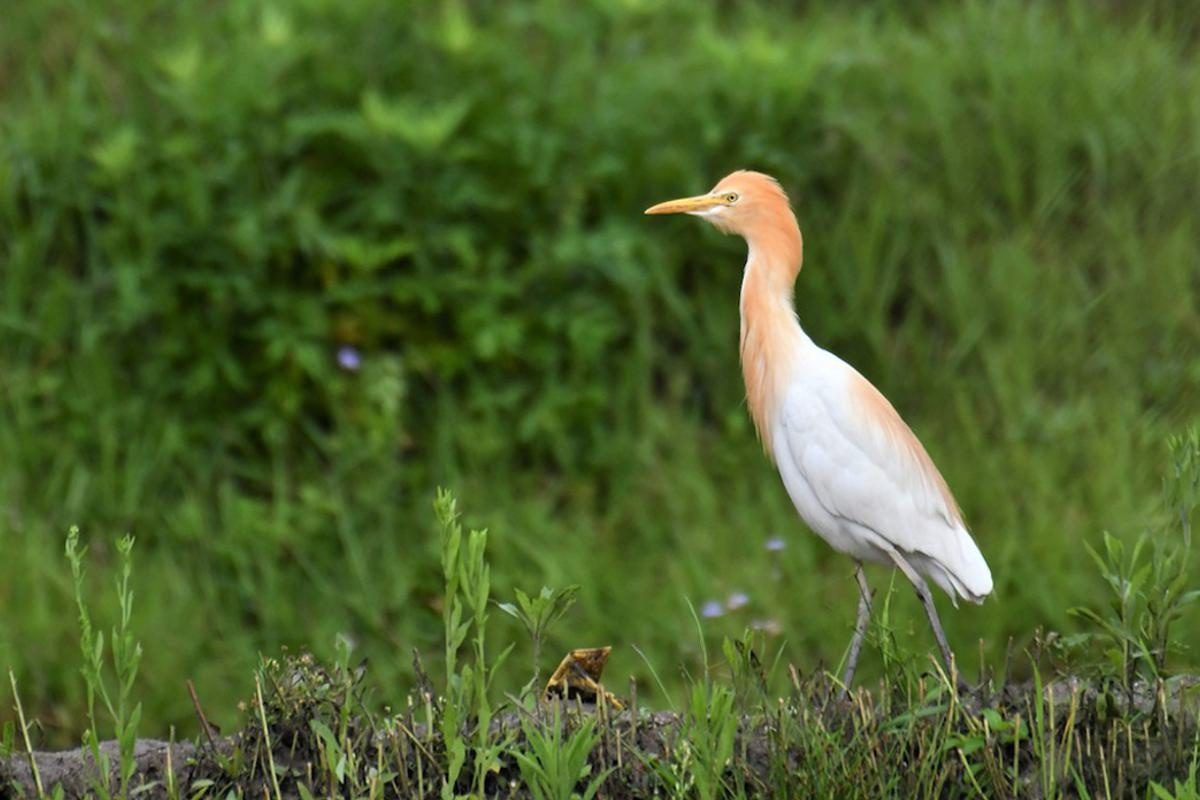egret: (647, 168, 1010, 705)
